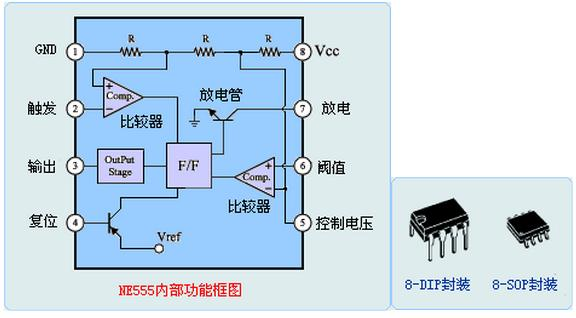bistable flip-flop: (166, 143, 211, 188)
comparator1: (104, 78, 143, 118), (236, 158, 274, 199)
discharge circuit: (204, 106, 239, 123)
output circuit: (98, 148, 143, 185)
reset circuit: (105, 208, 126, 238)
resistance: (119, 46, 143, 58), (194, 47, 217, 57), (259, 47, 281, 56)
